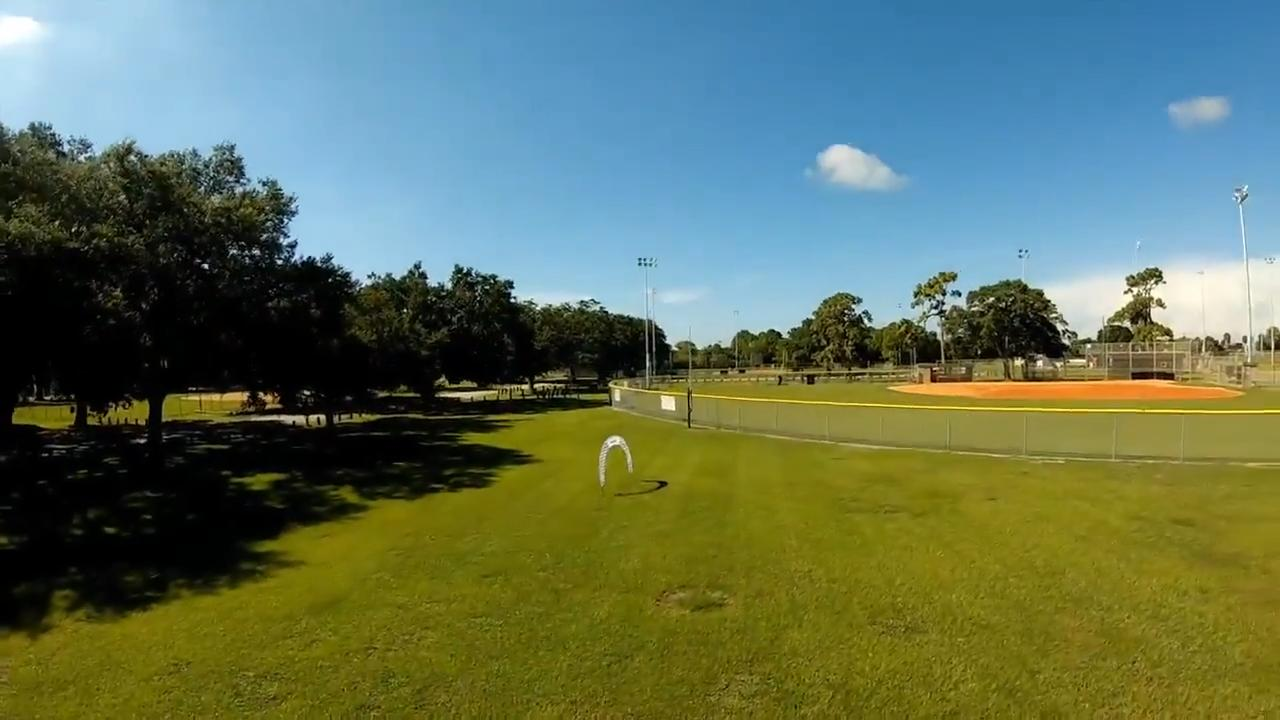gate: (595, 434, 635, 488)
